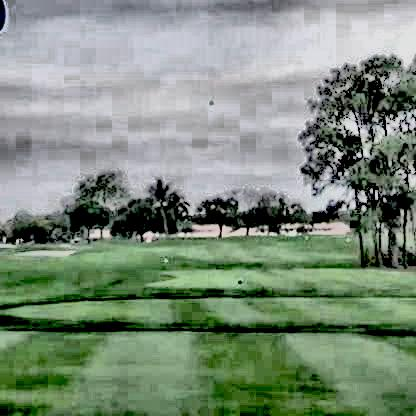golfball: (207, 98, 212, 103)
